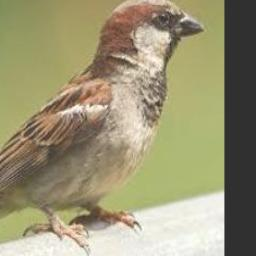Sparrow: (0, 0, 205, 255)
